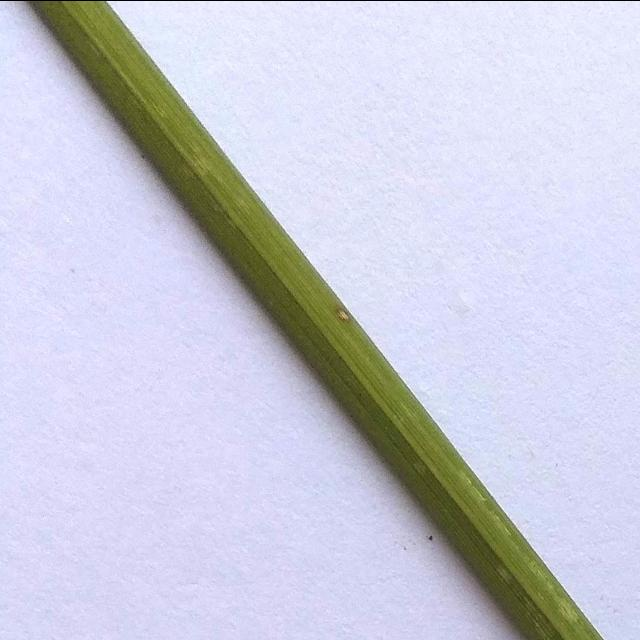Leaf blast: (330, 301, 356, 326)
